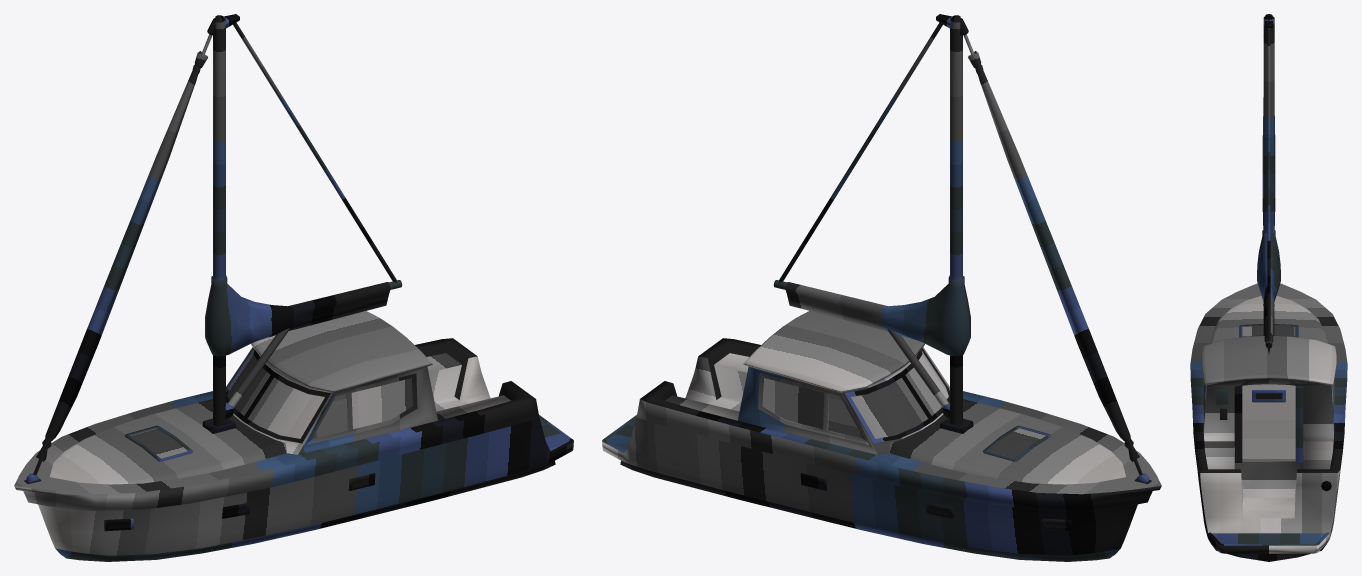
Rendered from objects_un_far_yacht01.gltf.
3 renders of one model, left to right at view 1: azimuth 30°, elevation 25°; view 2: azimuth 150°, elevation 25°; view 3: azimuth 270°, elevation 25°, orthographic. The views are drawn at different scales.
Visible parts, largest first — view 1: objects_un_far_yacht01_mesh_shape:objects_un_far_yacht01_01_; view 2: objects_un_far_yacht01_mesh_shape:objects_un_far_yacht01_01_; view 3: objects_un_far_yacht01_mesh_shape:objects_un_far_yacht01_01_.
Part boxes in pixels (x1,y1,x2,y2): objects_un_far_yacht01_mesh_shape:objects_un_far_yacht01_01_: (14, 14, 573, 561); objects_un_far_yacht01_mesh_shape:objects_un_far_yacht01_01_: (602, 14, 1161, 561); objects_un_far_yacht01_mesh_shape:objects_un_far_yacht01_01_: (1190, 14, 1347, 561).
Size of the model in its own units: 7.2 by 6.62 by 2.23.
Materials: 1 (1 with a texture image).
